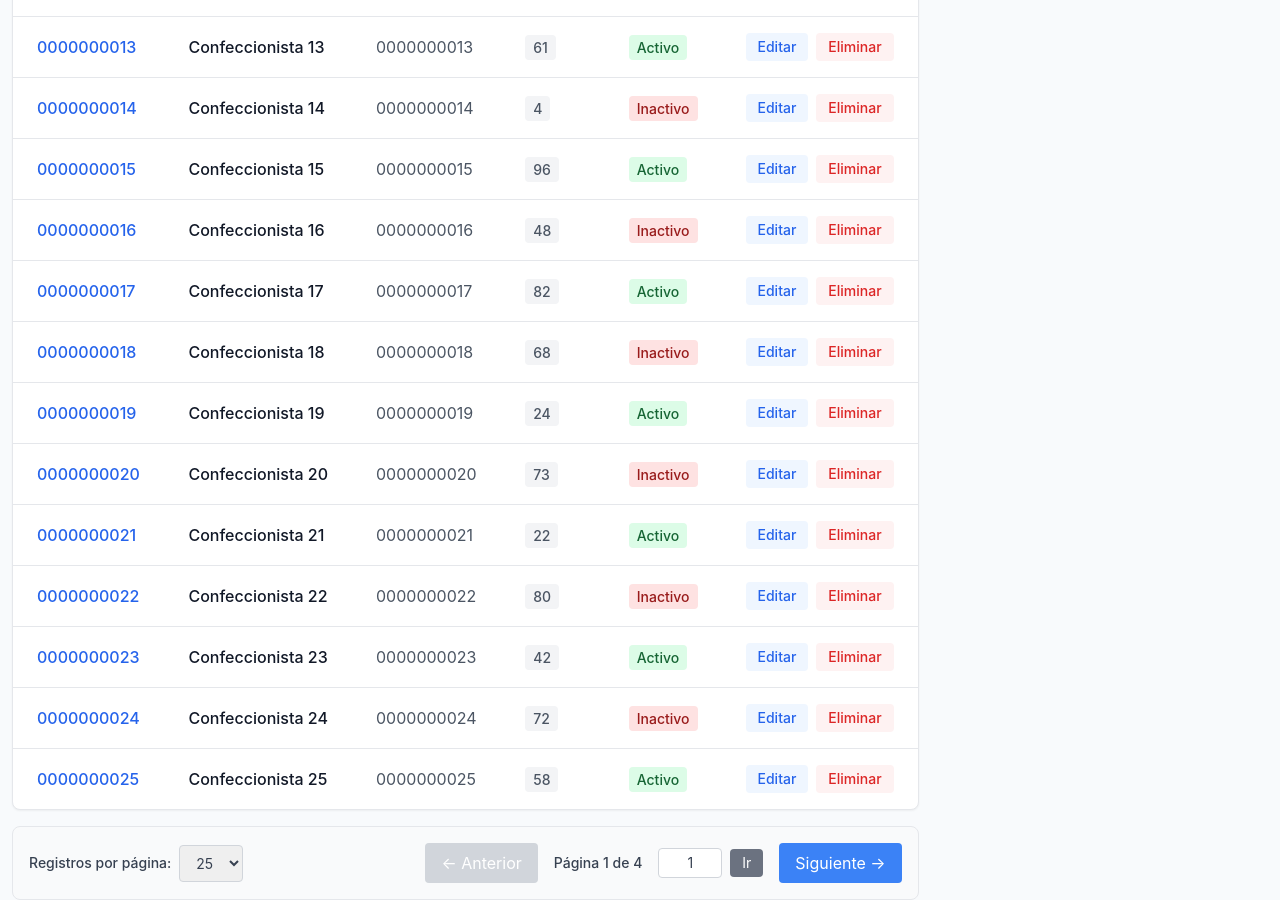
Test case: ConfeccionistasModule Unit Tests › Pagination › should navigate to previous page
(page scrolled)
Click the button "Siguiente →" at (840, 863), box [779,843,902,883]
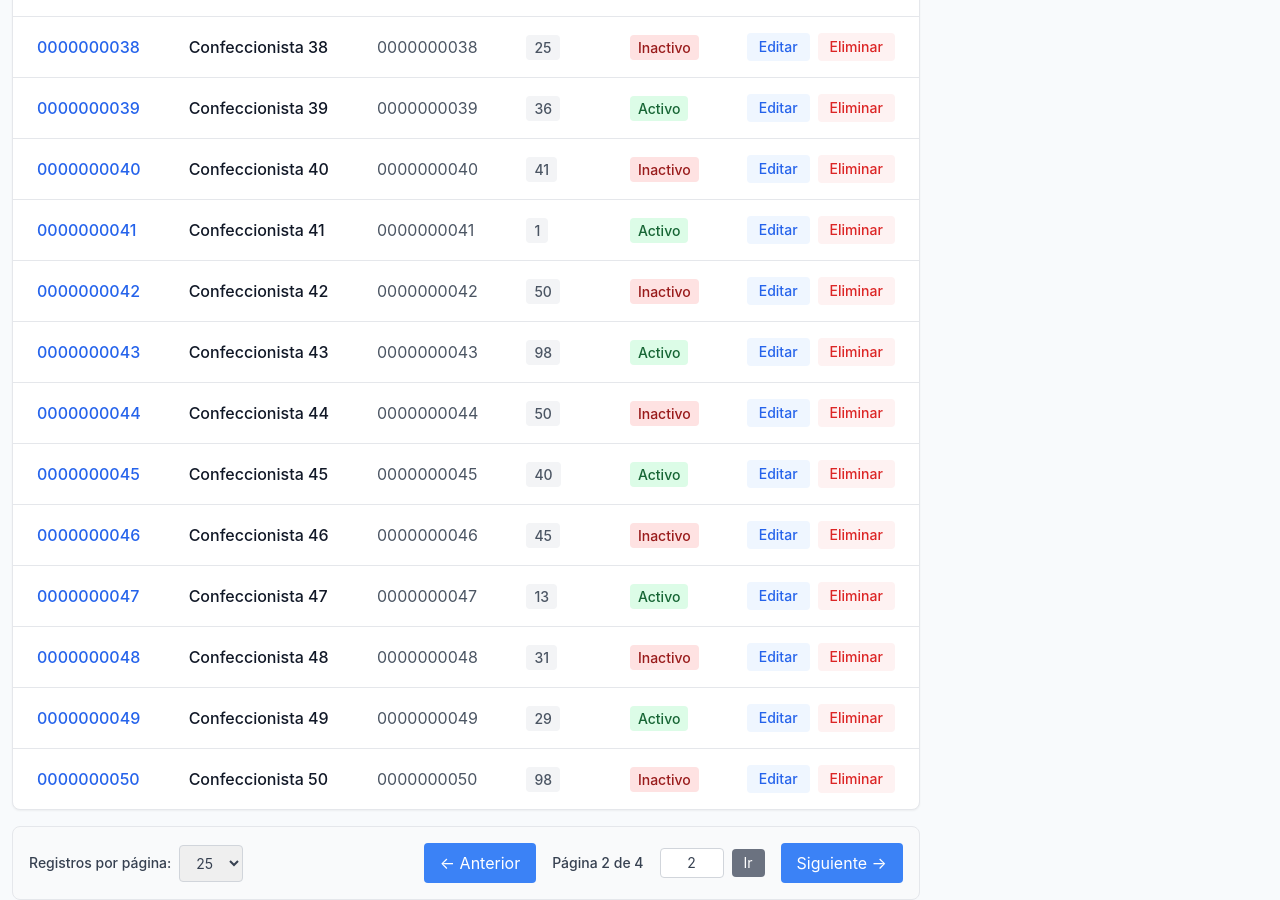
Click the button "← Anterior" at (480, 863), box [424,843,536,883]
(page scrolled)
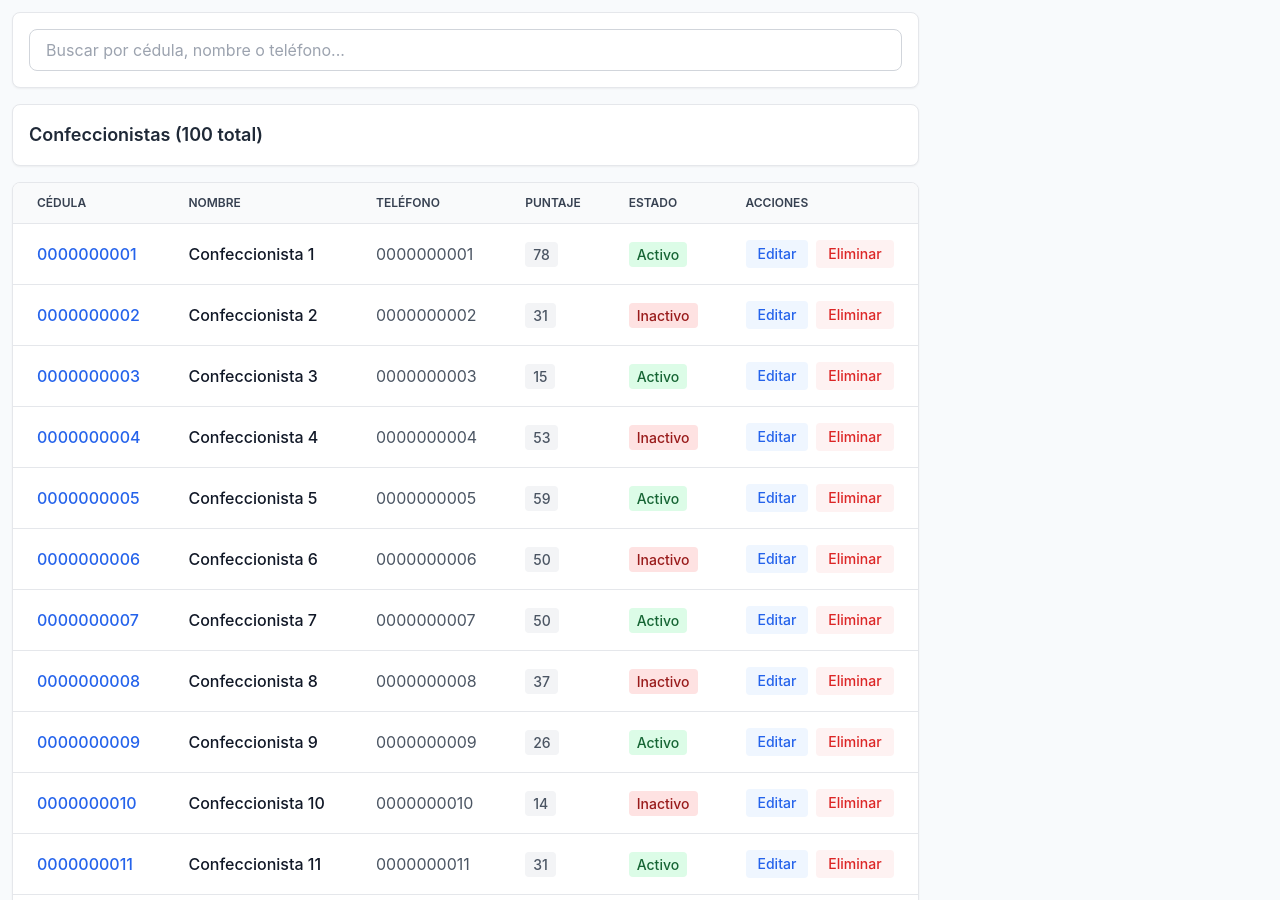
Check: the text "Confeccionista 1" is shown, box [164,224,352,284]
